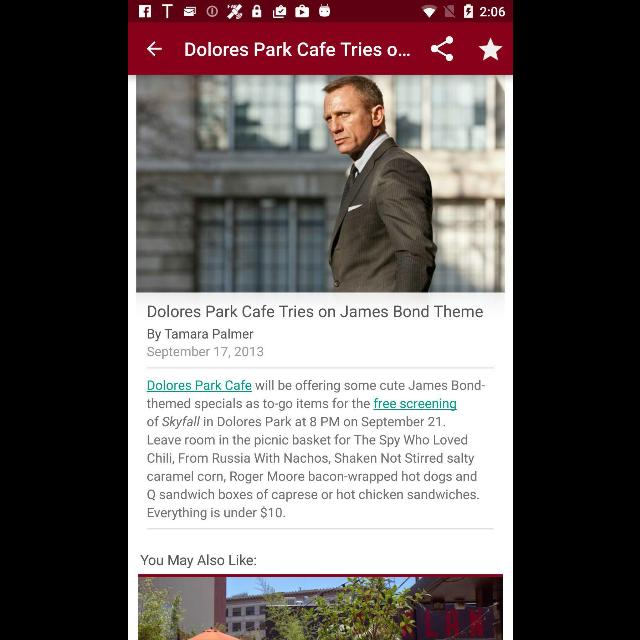icon: (430, 36, 452, 62), (478, 38, 502, 61), (146, 42, 162, 56)
image: (136, 75, 504, 292), (138, 574, 502, 640)
text: (146, 380, 484, 520), (146, 304, 482, 318), (185, 42, 409, 56), (140, 554, 256, 568), (147, 328, 253, 342), (146, 346, 262, 358)
toolbar: (128, 24, 512, 74)
uppertaskbar: (128, 1, 512, 23)
